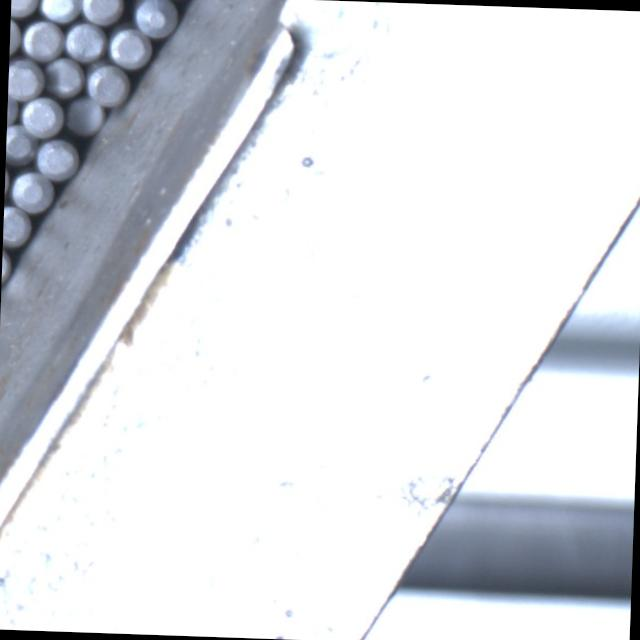tool: (21, 19, 63, 61), (109, 27, 151, 68), (36, 138, 78, 179), (22, 95, 64, 136), (86, 63, 128, 104), (64, 22, 106, 62), (12, 170, 52, 212), (44, 58, 84, 98), (66, 95, 105, 134), (134, 0, 177, 35), (8, 57, 42, 100), (5, 125, 36, 166), (2, 205, 28, 246), (79, 0, 121, 22), (40, 0, 79, 20), (6, 92, 20, 129), (9, 16, 21, 57), (10, 0, 36, 16), (1, 246, 10, 288)
